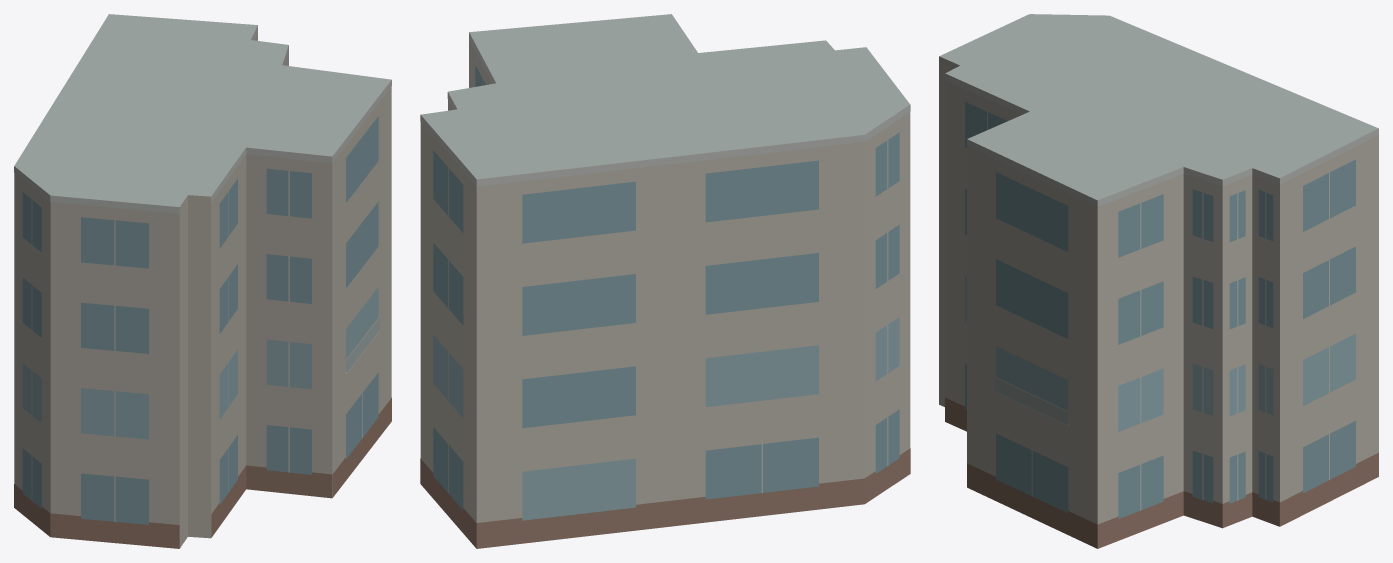
The model's file is survey-upis-32664052.glb.
The picture shows the model from 3 angles, left to right: view 1: azimuth 30°, elevation 25°; view 2: azimuth 150°, elevation 25°; view 3: azimuth 270°, elevation 25°; orthographic projection. The views are drawn at different scales.
Visible parts, largest first — view 1: survey-upis-32664052.tmp; view 2: survey-upis-32664052.tmp; view 3: survey-upis-32664052.tmp.
Part boxes in pixels (x1,y1,x2,y2): survey-upis-32664052.tmp: (14, 14, 391, 548); survey-upis-32664052.tmp: (420, 14, 910, 548); survey-upis-32664052.tmp: (939, 14, 1378, 548).
Bounding box in the file's own units: 14.7 × 12.8 × 14.65.
